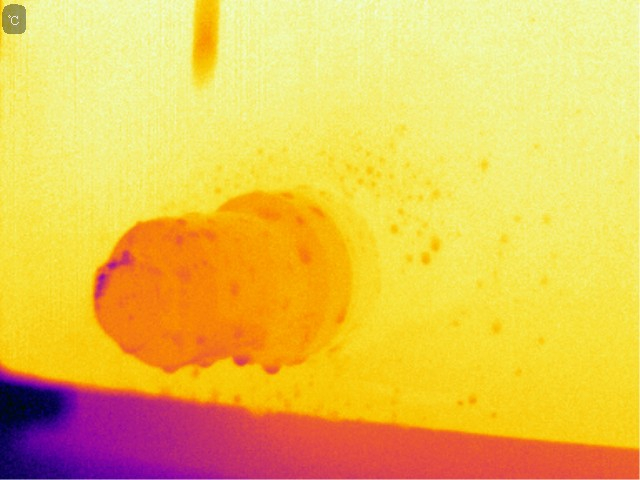Water: (261, 356, 284, 377), (294, 242, 313, 265), (232, 346, 251, 368), (191, 354, 218, 369), (169, 217, 191, 230), (162, 363, 182, 377), (200, 226, 221, 239), (311, 203, 327, 220), (334, 309, 346, 330)
